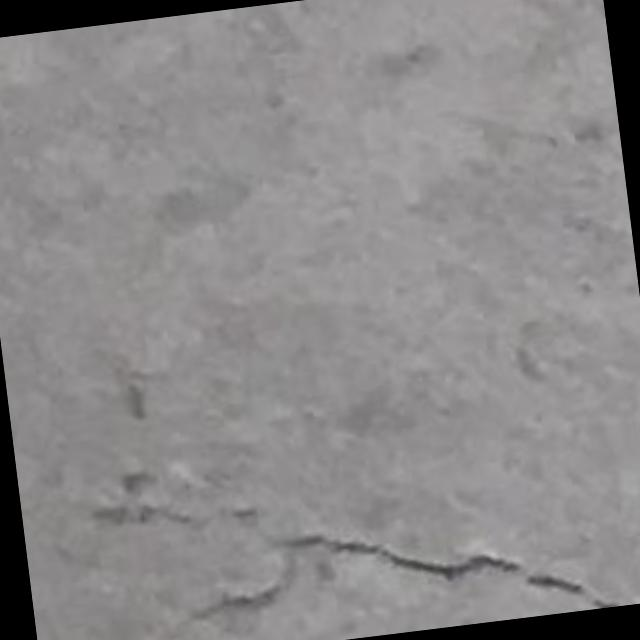crack: (283, 534, 619, 608)
